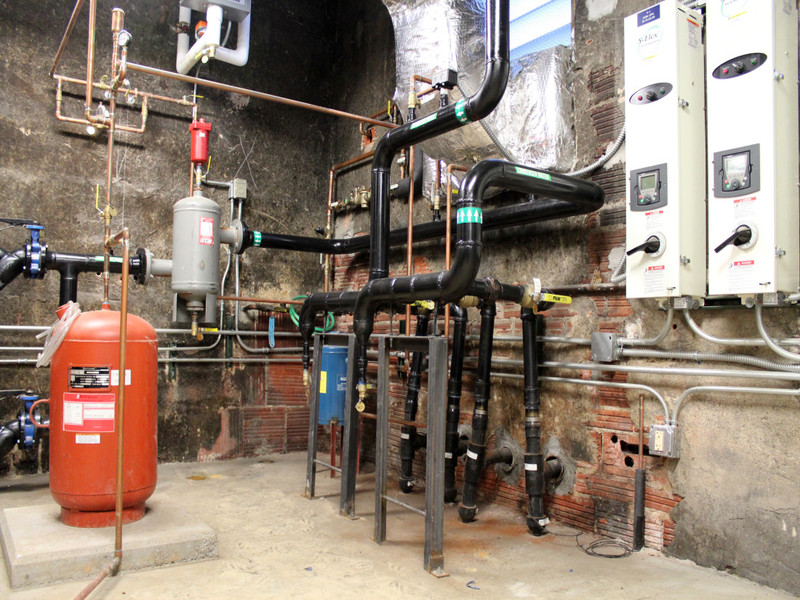valve: (519, 287, 579, 315), (191, 148, 228, 193), (92, 184, 114, 221), (379, 96, 397, 131), (177, 88, 209, 106), (190, 318, 227, 329), (192, 48, 211, 62)
